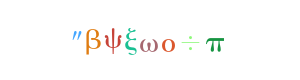0: (57, 0, 137, 80)
4: (121, 0, 201, 80)
B: (80, 0, 160, 80)
C: (89, 0, 169, 80)
J: (94, 0, 174, 80)
O: (110, 0, 190, 80)
P: (175, 0, 255, 80)
V: (101, 0, 181, 80)
